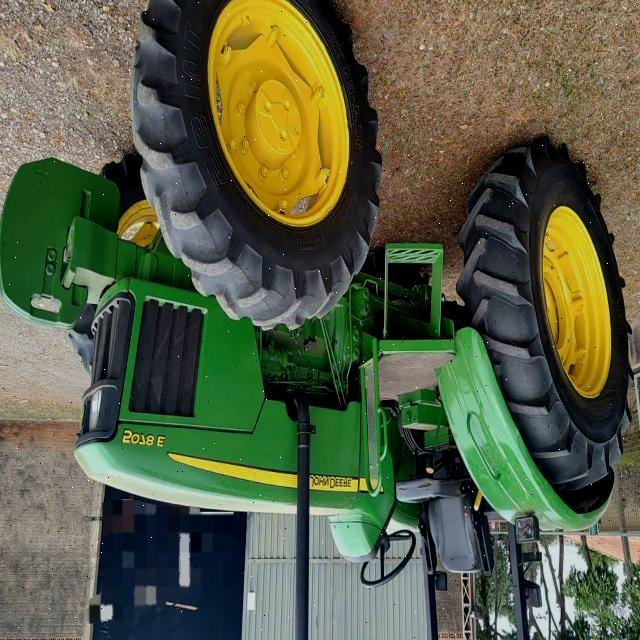Tratores - v5 YOLO V8L 2024-11-13: (2, 0, 634, 593)
